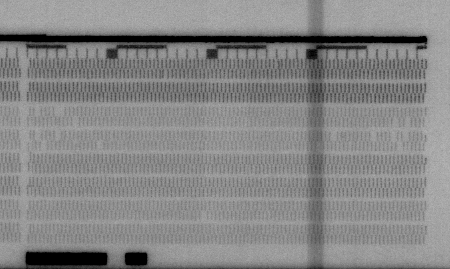Broken hole: (389, 132, 411, 151), (32, 130, 50, 152), (390, 117, 412, 130), (52, 106, 67, 119), (51, 129, 65, 142), (69, 115, 82, 128), (198, 210, 211, 223), (368, 130, 380, 143), (94, 140, 105, 153), (328, 130, 340, 141), (31, 106, 43, 117)
Oblique printing: (158, 67, 172, 81), (272, 57, 284, 72), (421, 153, 432, 167), (420, 129, 429, 144)
